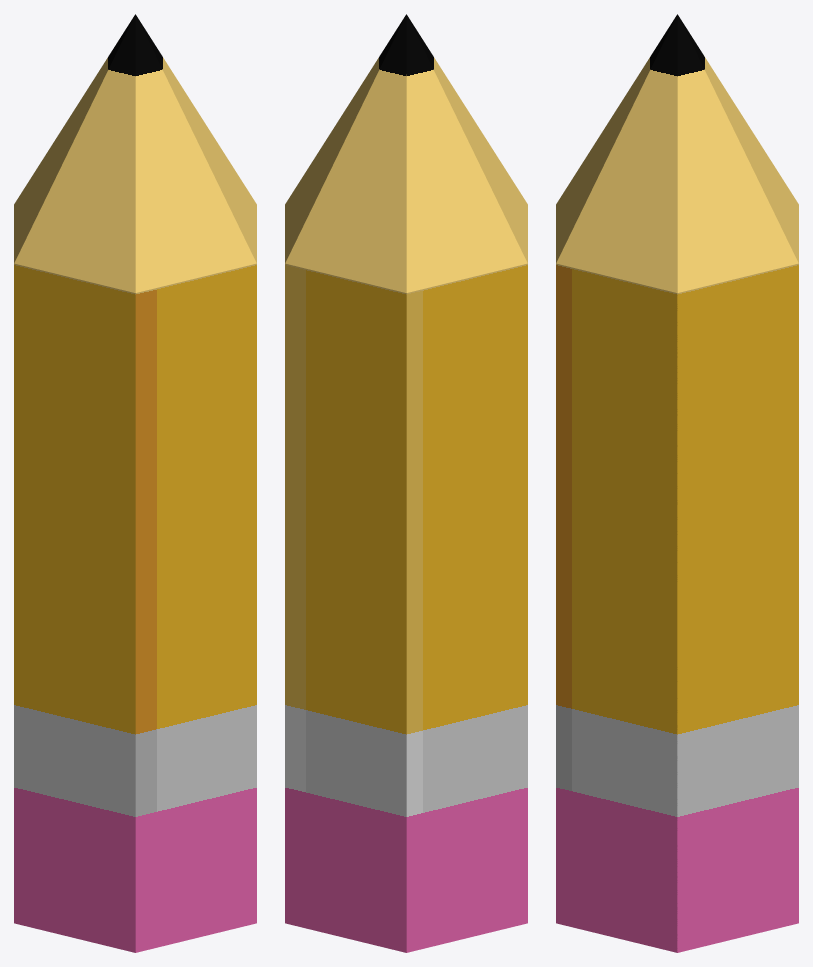
File: Pencil 2.fbx
3 renders of one model, left to right at view 1: azimuth 30°, elevation 25°; view 2: azimuth 150°, elevation 25°; view 3: azimuth 270°, elevation 25°, orthographic.
Visible parts, largest first — view 1: cylinder; view 2: cylinder; view 3: cylinder.
Boxes of the visible parts, x1,y1,x2,y2 form: cylinder: (14,14,256,952); cylinder: (285,14,527,952); cylinder: (556,14,798,952).
Size of the model in its own units: 57.74 by 200 by 50.
1 material, 1 textured.
